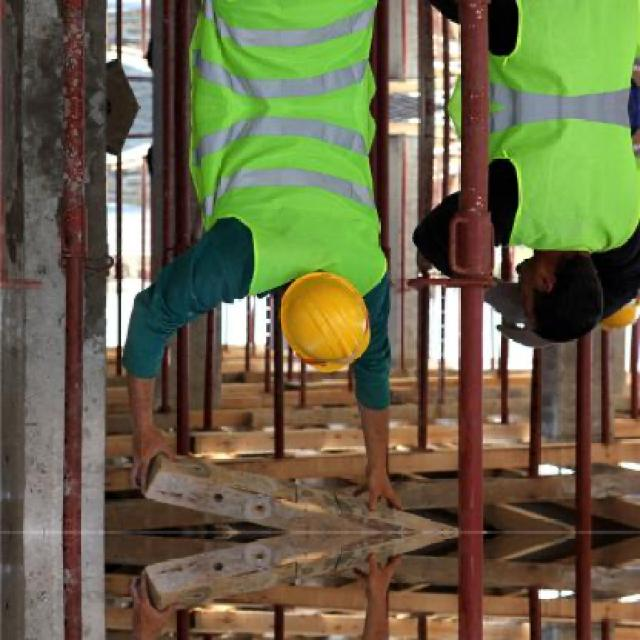con casco: (237, 236, 409, 368)
sin casco: (458, 270, 624, 343)
